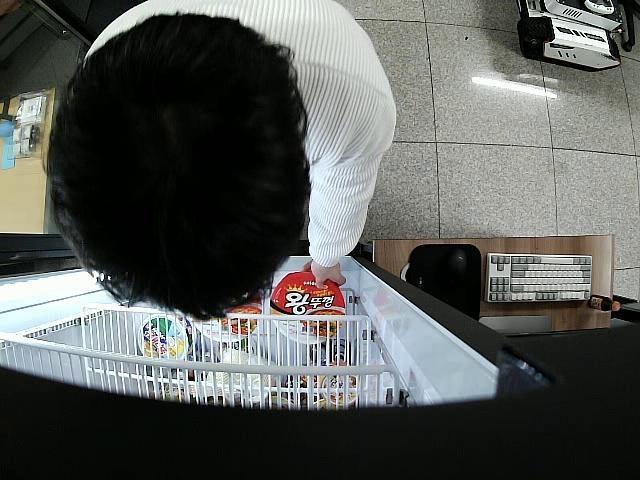10_wangTtukkeong: (269, 272, 345, 344)
